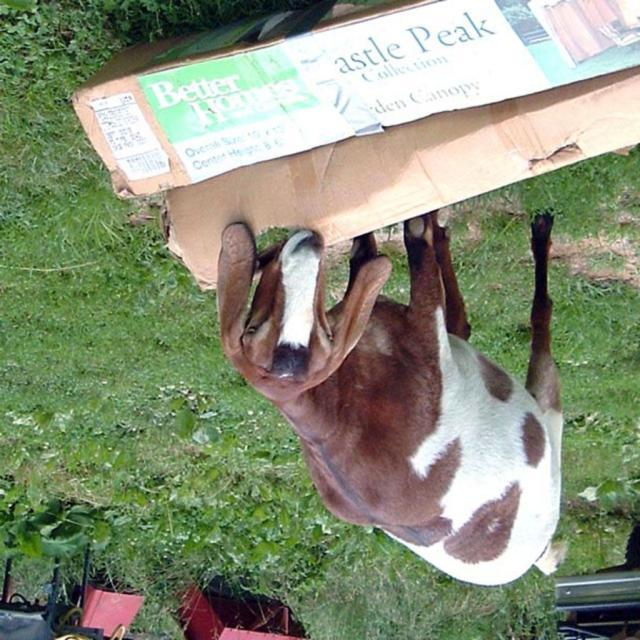Goat: (215, 207, 571, 589)
